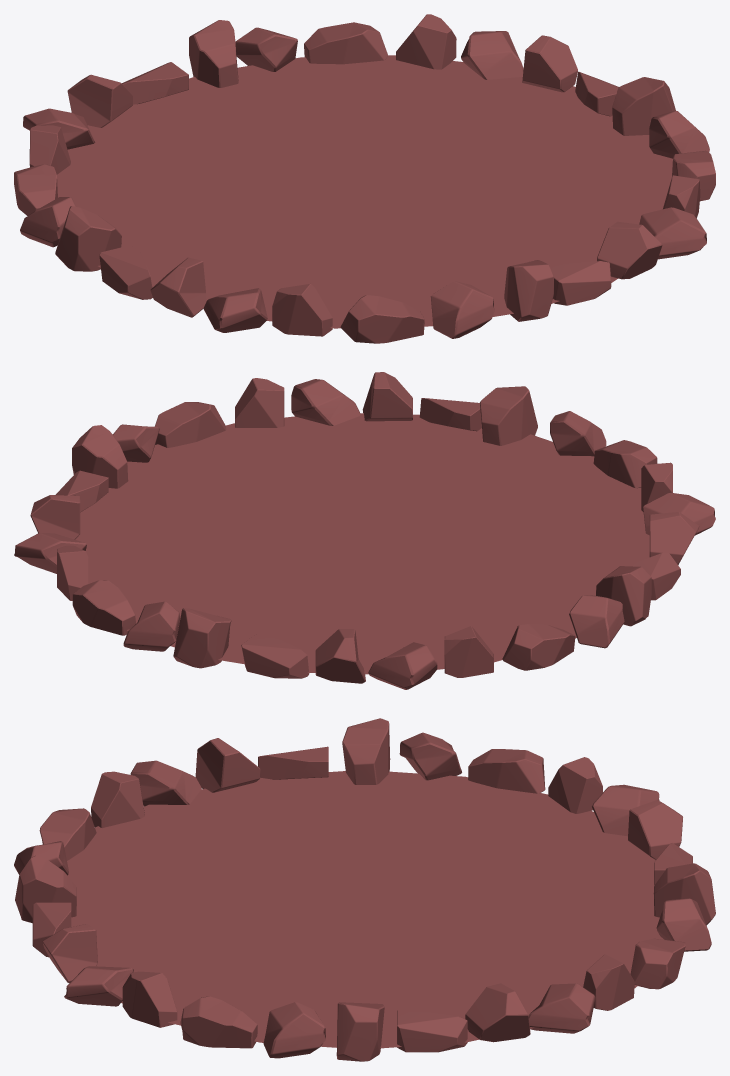
File: Surrounding.fbx
3 renders of one model, top to bottom at view 1: azimuth 30°, elevation 25°; view 2: azimuth 150°, elevation 25°; view 3: azimuth 270°, elevation 25°, orthographic. The views are drawn at different scales.
Visible parts, largest first — view 1: pCylinder5; view 2: pCylinder5; view 3: pCylinder5.
Boxes of the visible parts, x1=… form: pCylinder5: x1=14, y1=14, x2=715, y2=343; pCylinder5: x1=14, y1=372, x2=715, y2=689; pCylinder5: x1=14, y1=718, x2=715, y2=1061.
Size of the model in its own units: 13.01 by 1.07 by 12.85.
